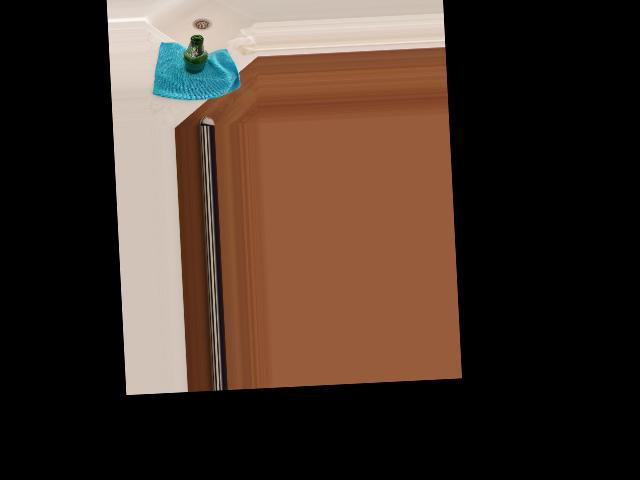beer: (182, 34, 209, 75)
